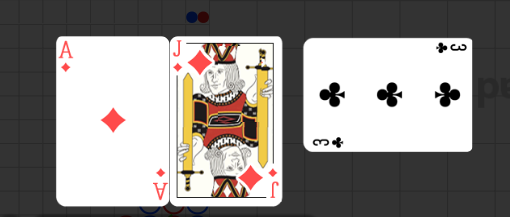3C: (433, 41, 467, 55), (312, 135, 346, 149)
AD: (151, 165, 168, 201)
